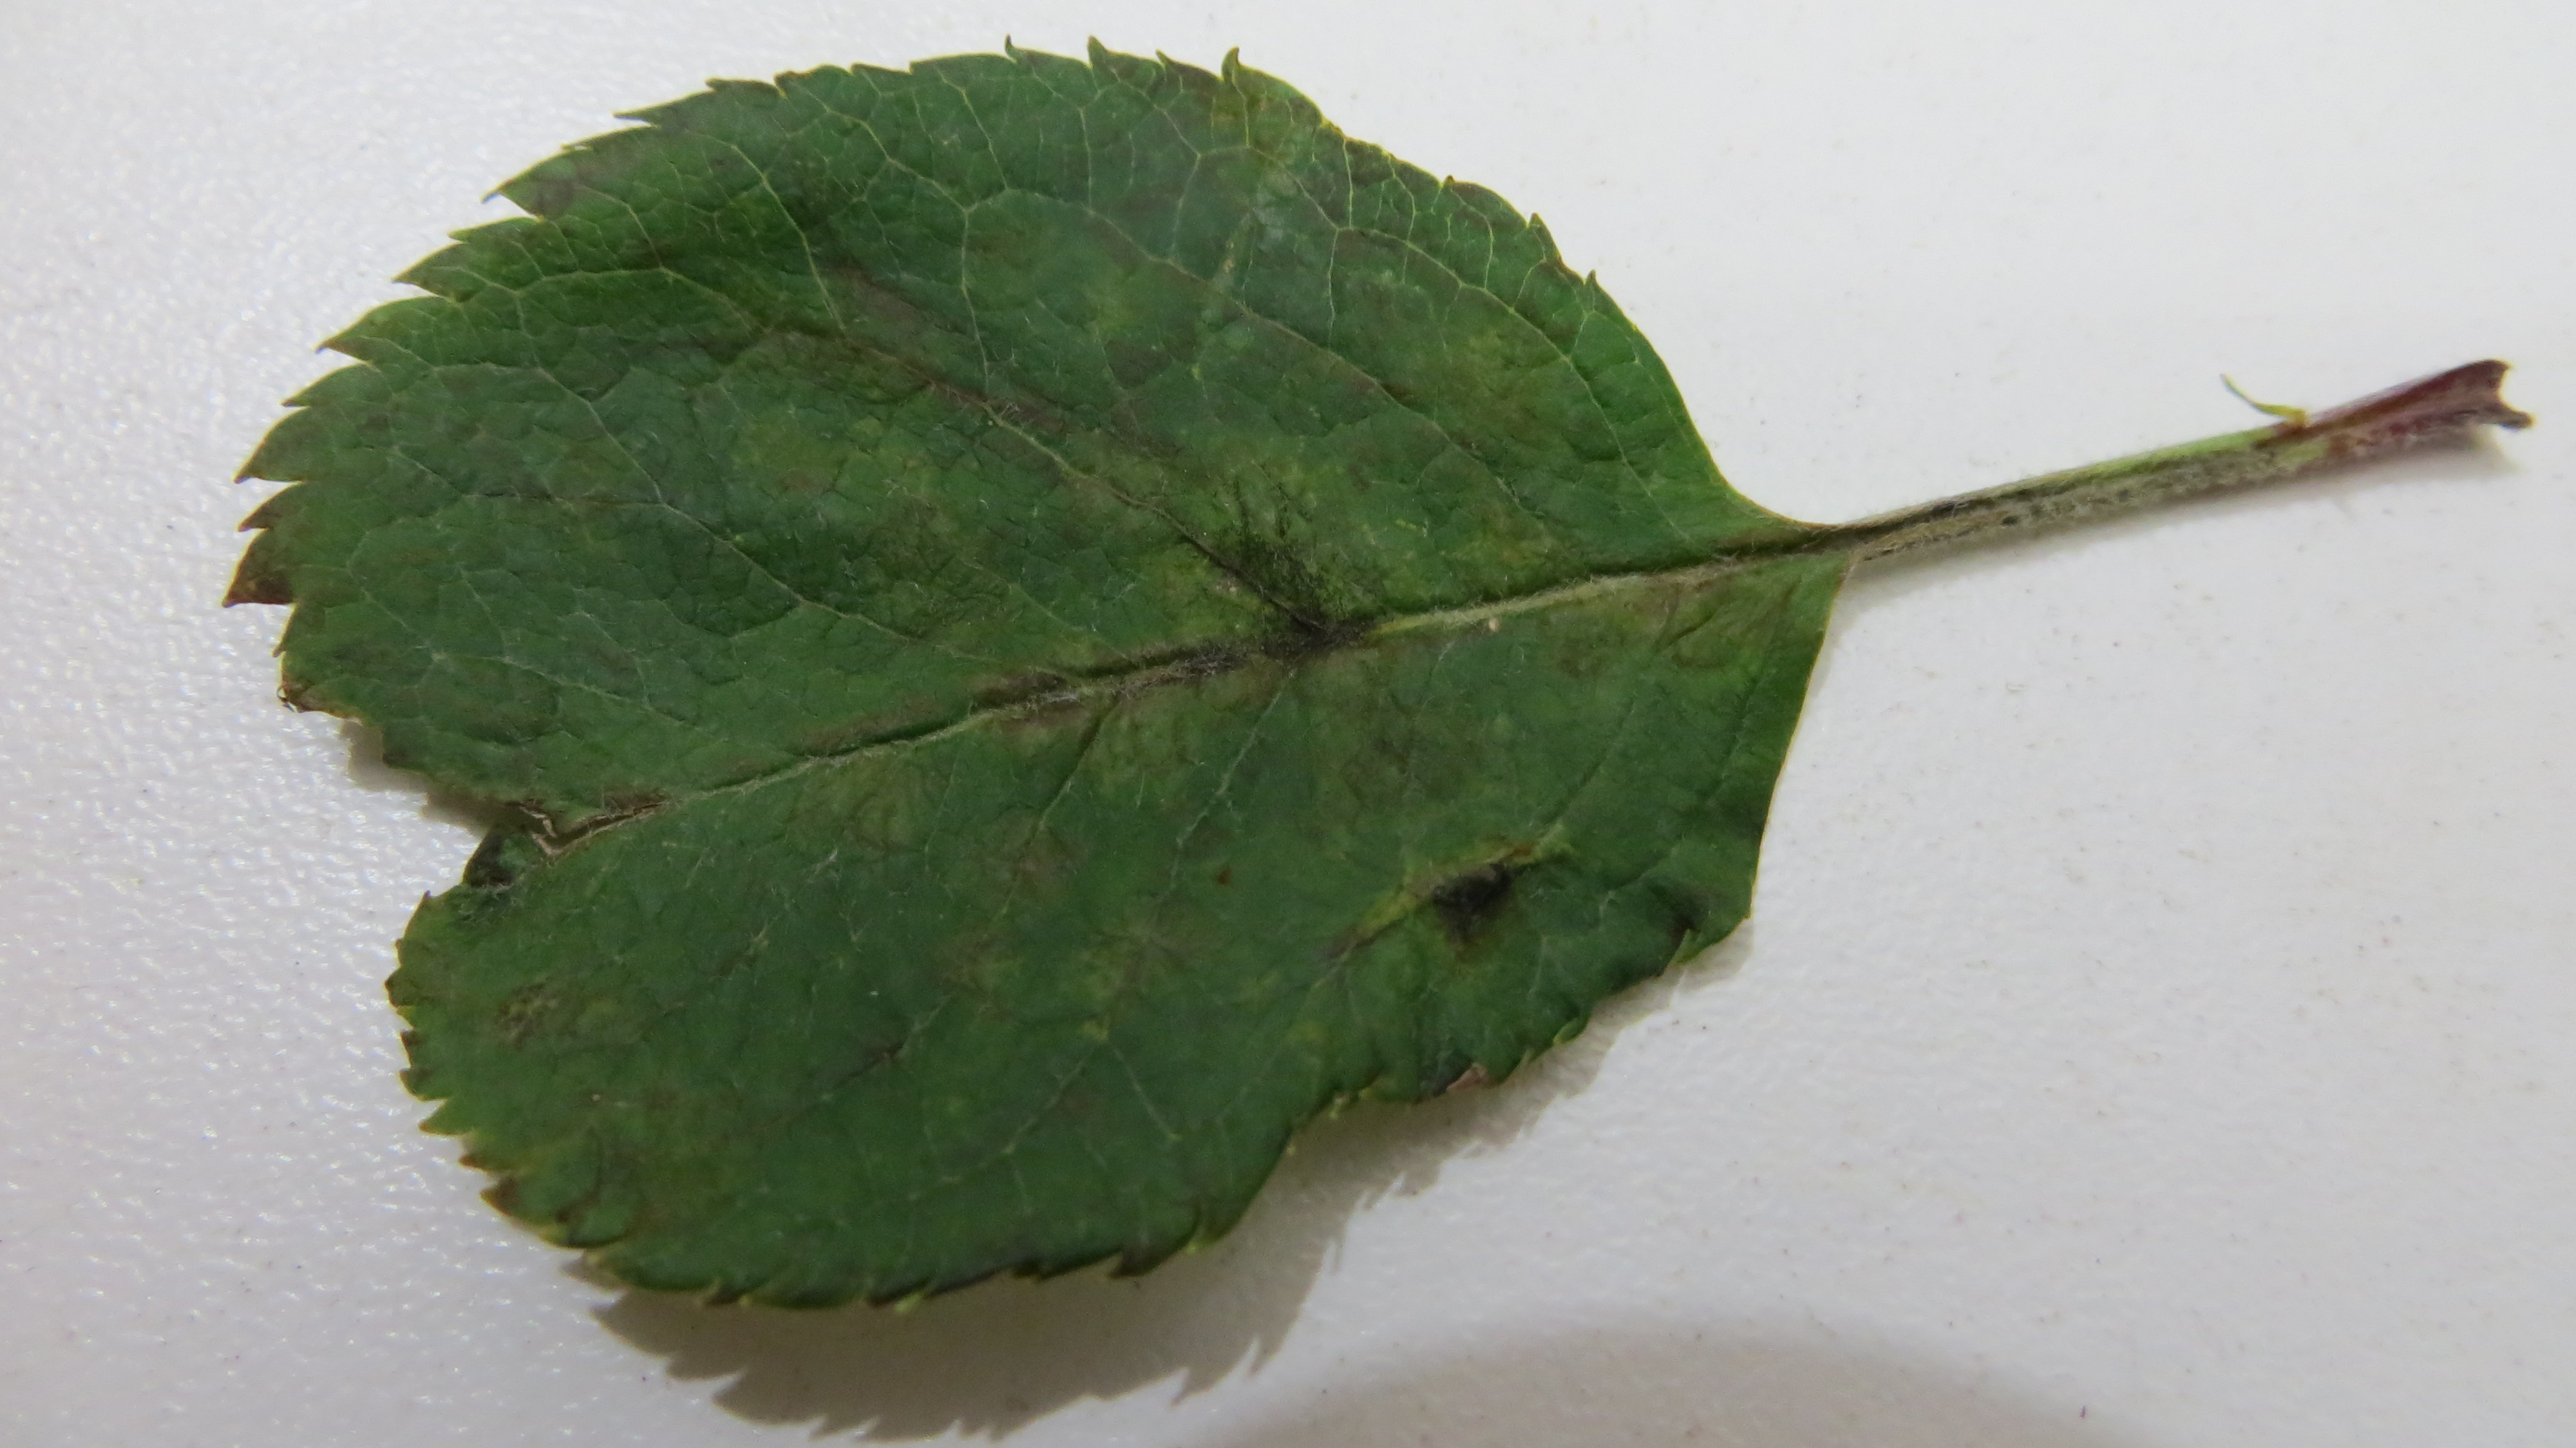sarna: (1194, 497, 1399, 676), (548, 1067, 717, 1244), (1302, 673, 1509, 816), (1046, 882, 1219, 1041), (1134, 612, 1293, 779), (1279, 112, 1433, 280), (1092, 106, 1224, 297), (1258, 315, 1440, 451), (786, 706, 938, 869), (478, 944, 667, 1069), (1638, 512, 1803, 655), (881, 473, 1005, 653), (973, 643, 1134, 781), (511, 131, 669, 269), (1419, 343, 1552, 497), (1056, 400, 1200, 542), (492, 427, 655, 551), (807, 209, 954, 340), (759, 310, 920, 423), (916, 354, 1060, 478), (1106, 48, 1279, 138), (1412, 834, 1522, 967), (1148, 795, 1279, 899), (740, 428, 860, 535), (209, 510, 315, 627), (828, 1000, 950, 1101), (639, 73, 770, 165), (494, 765, 580, 892), (971, 805, 1081, 901), (1605, 869, 1721, 958), (587, 758, 685, 857), (1690, 745, 1783, 841), (932, 906, 1026, 1002), (582, 612, 656, 710), (446, 805, 518, 901)
